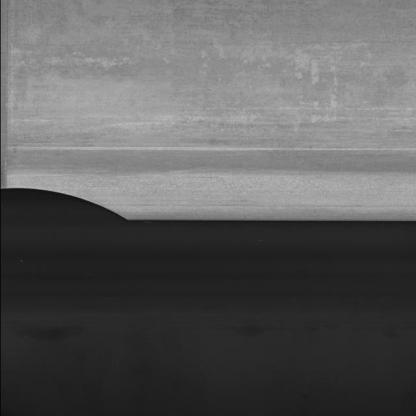crescent_gap: (0, 181, 138, 237)
welding_line: (1, 3, 22, 206)
